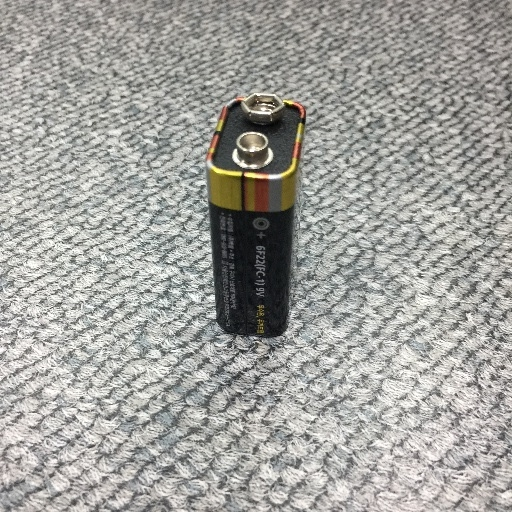Battery_3: (194, 86, 314, 351)
